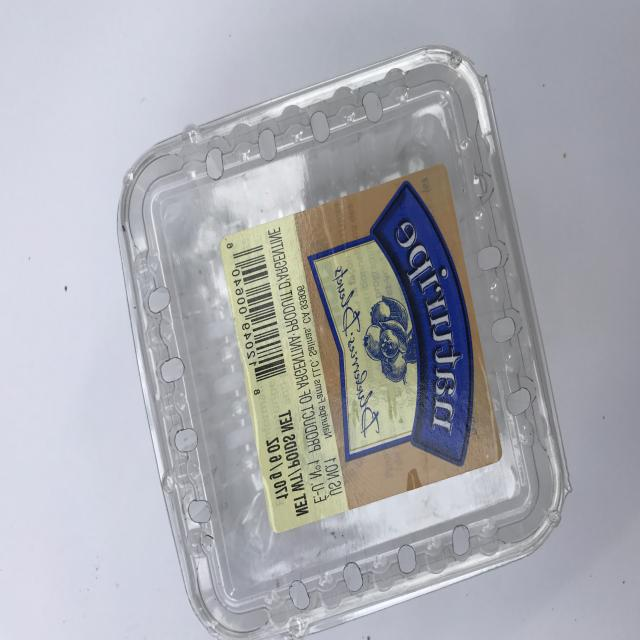plastic: (117, 44, 572, 640)
